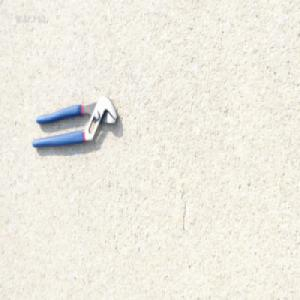Pliers: (30, 95, 118, 150)
